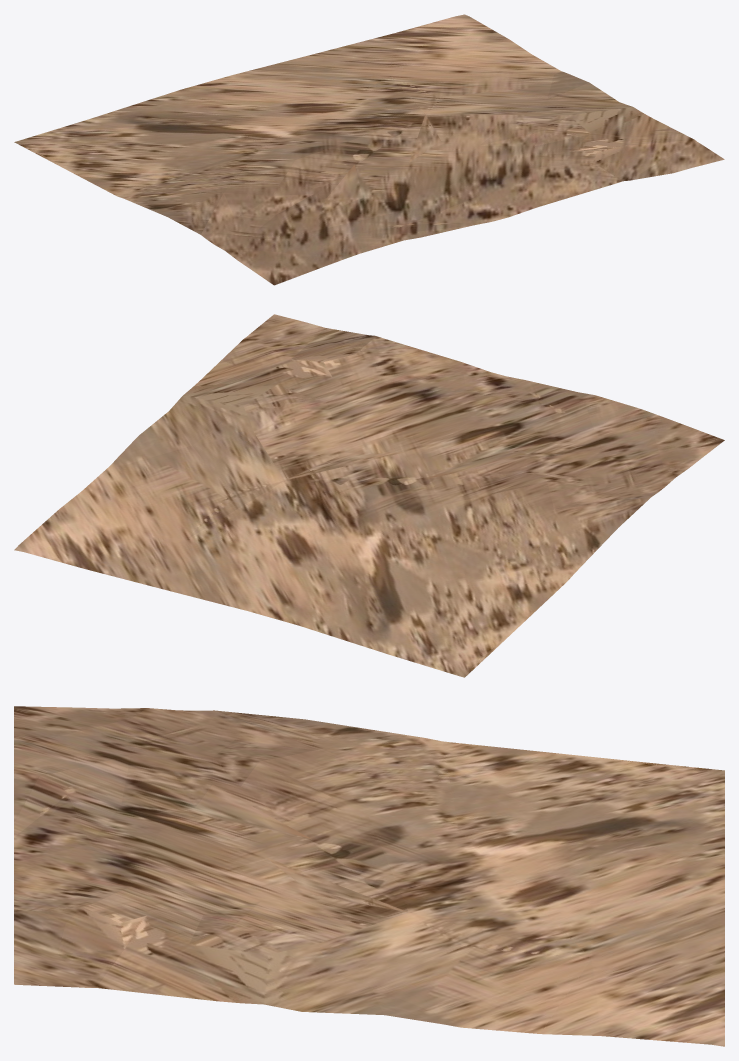
3 views of the same model, one above another, from view 1: azimuth 30°, elevation 25°; view 2: azimuth 150°, elevation 25°; view 3: azimuth 270°, elevation 25° (orthographic). The views are drawn at different scales.
Size of the model in its own units: 2.09 by 0.2994 by 2.09.
Materials: 3 (3 with a texture image).
